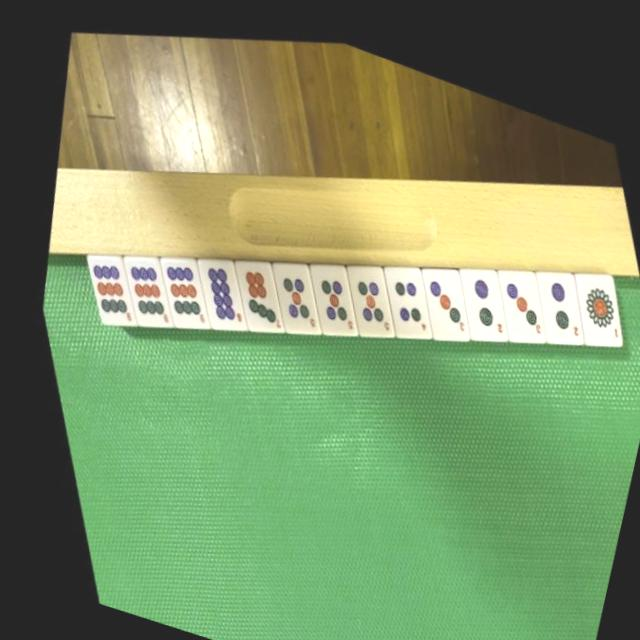sd1: (553, 242, 633, 337)
sd2: (512, 240, 596, 336), (437, 242, 517, 334)
sd3: (397, 240, 481, 336), (473, 239, 554, 335)
sd4: (359, 237, 442, 335)
sd5: (322, 239, 403, 333), (249, 239, 328, 332), (286, 239, 365, 332)
sd7: (212, 238, 290, 331)
sd8: (174, 237, 251, 330)
sd9: (101, 238, 177, 330), (137, 238, 213, 330), (65, 237, 140, 329)
